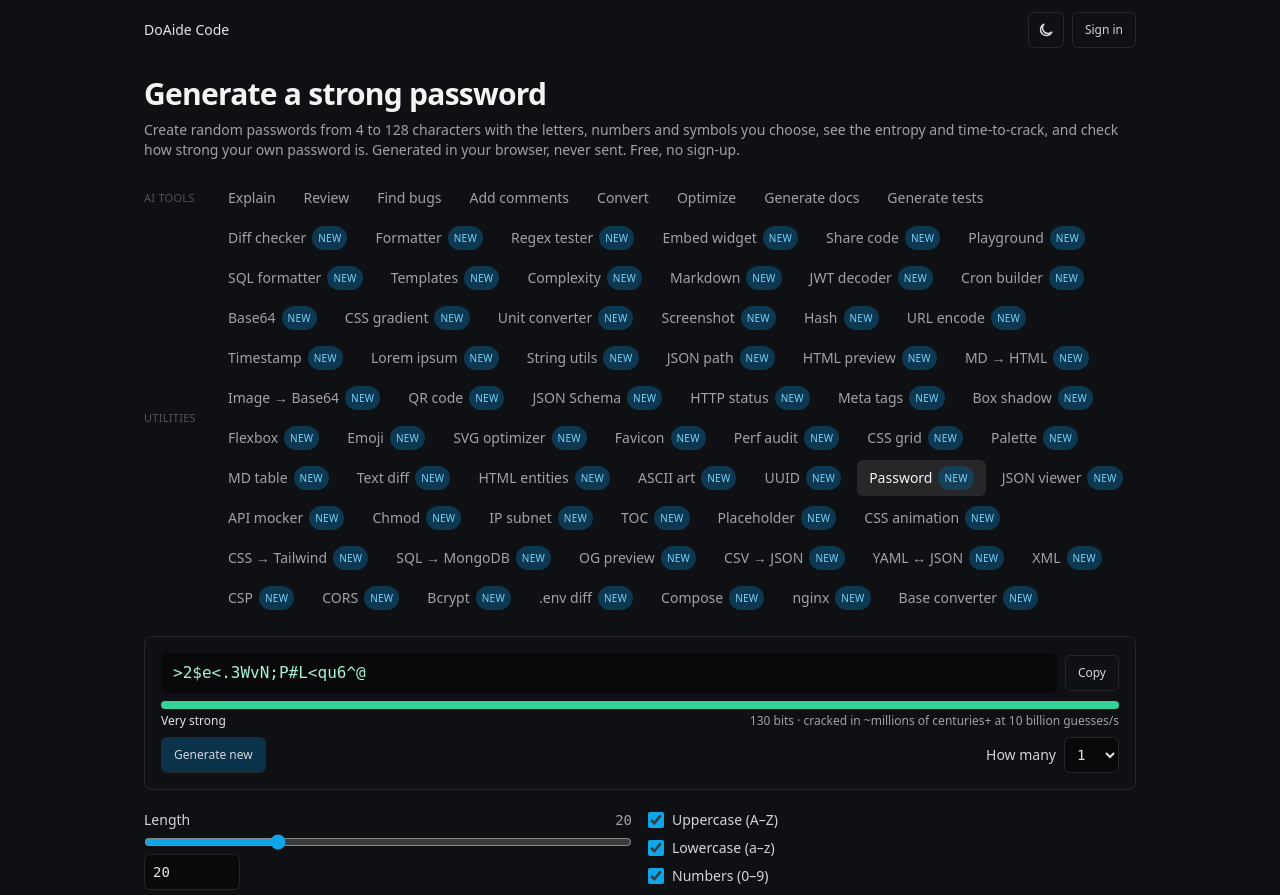
PasswordPage › regenerates on option changes and in bulk
This screenshot has width=1280, height=895.
Set the slider with test id "password-length" to "8". click: [183, 842]
box: [144,834,632,850]
(page scrolled)
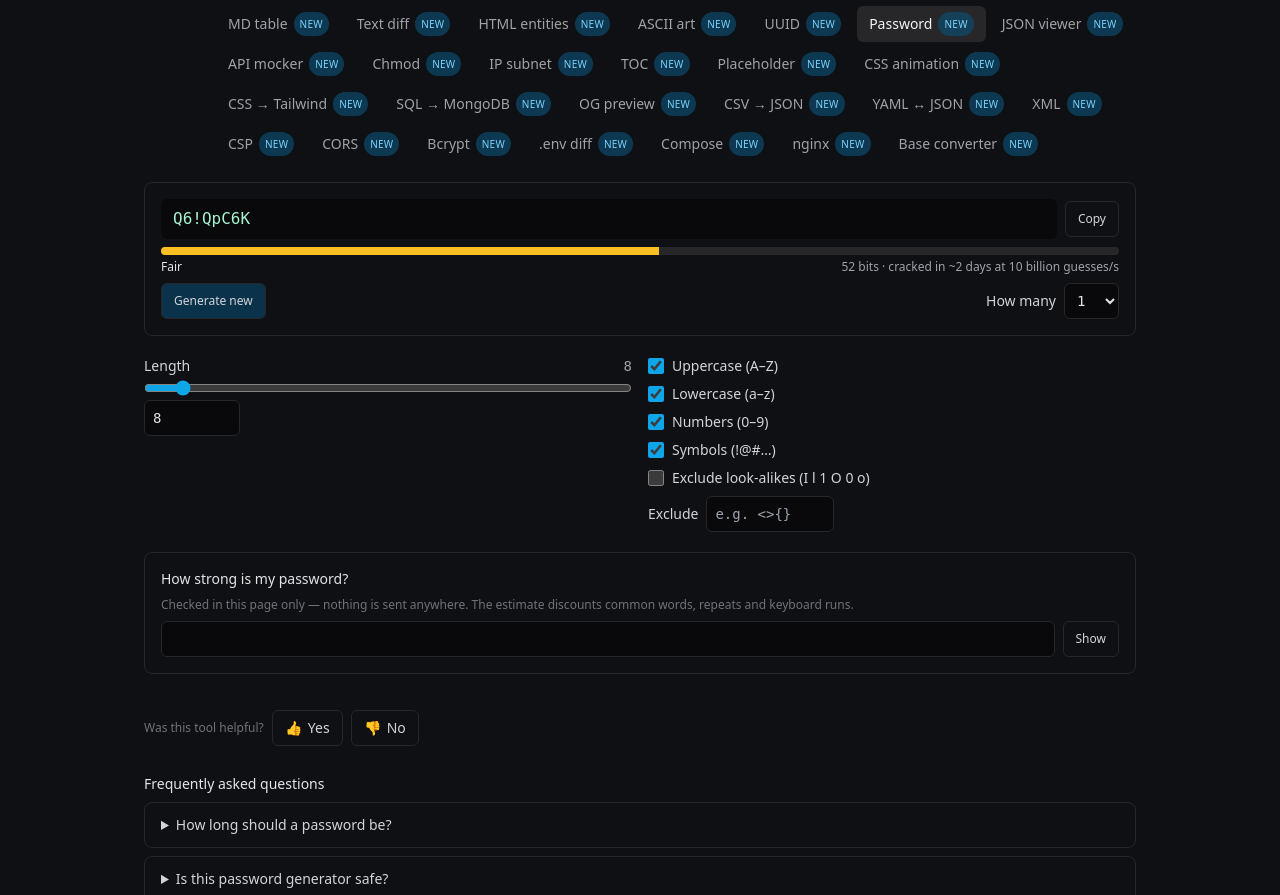
Click the checkbox with test id "password-symbols". click: [656, 450]
box: [648,442,664,458]
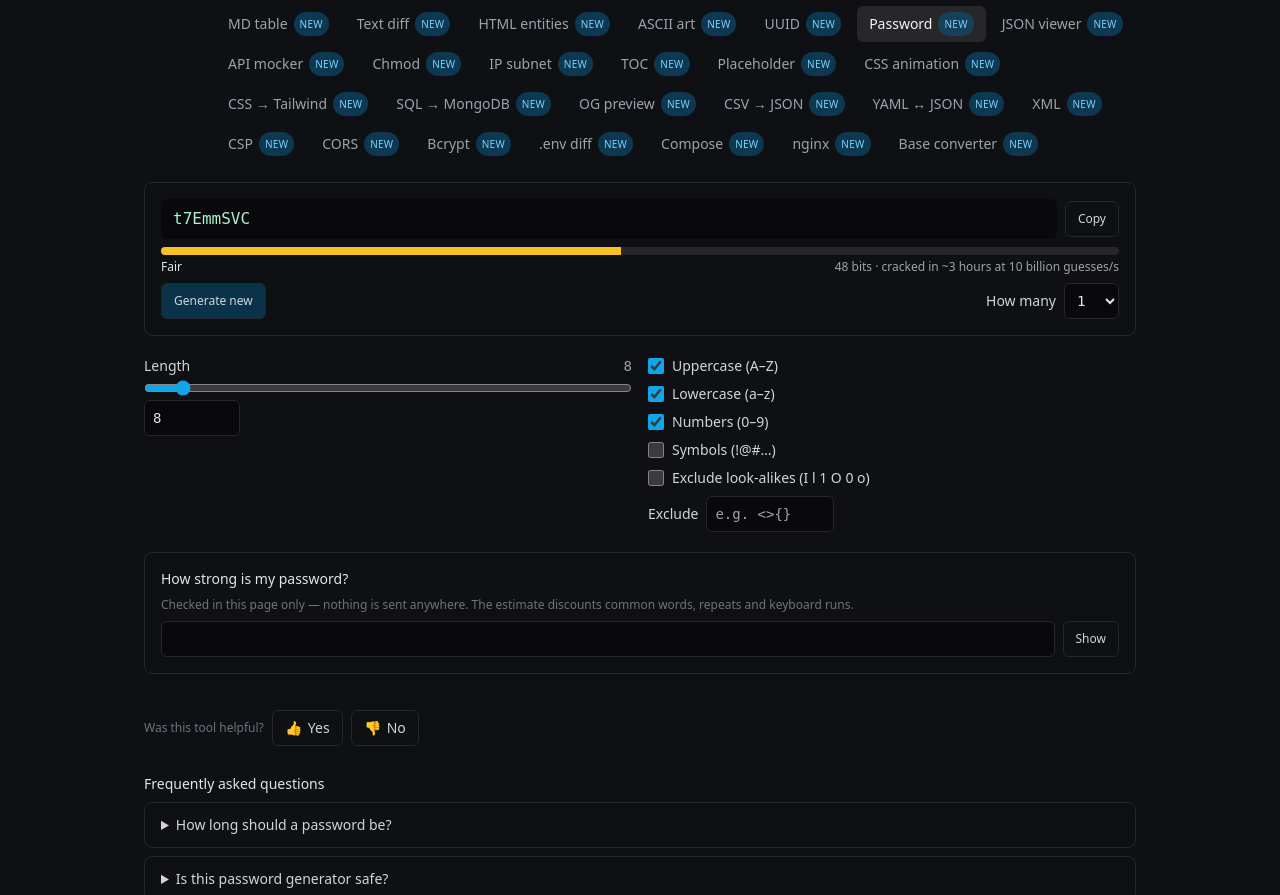
Select "5" in the dropdown with test id "password-count". click: [1092, 301]
box: [1064,283,1119,319]
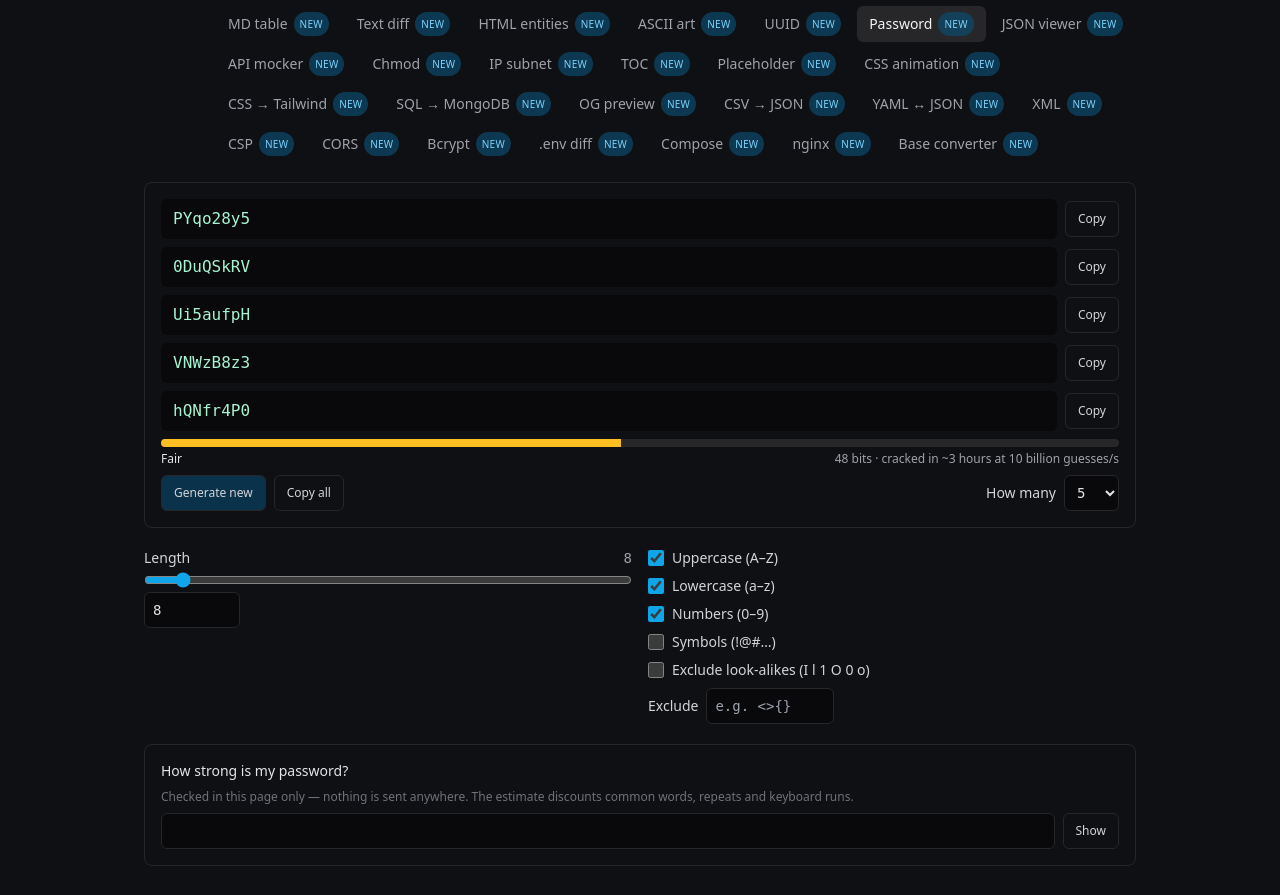
Result: the text with test id "password-4" is shown at [161,391,1057,431]
